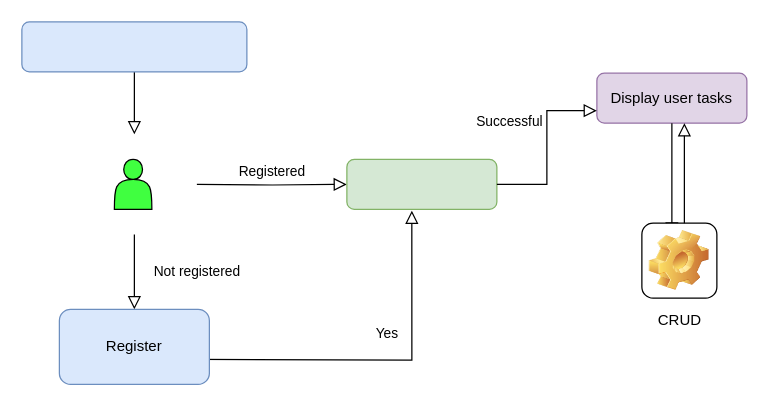
Image size: 769x406. Some labels were removed from this diagram. The centre of each missing label's shape, as x and y in pixels:
"Home Page / sign in / Register" goes at pixel 134 46.
"Sign in" goes at pixel 421 183.
